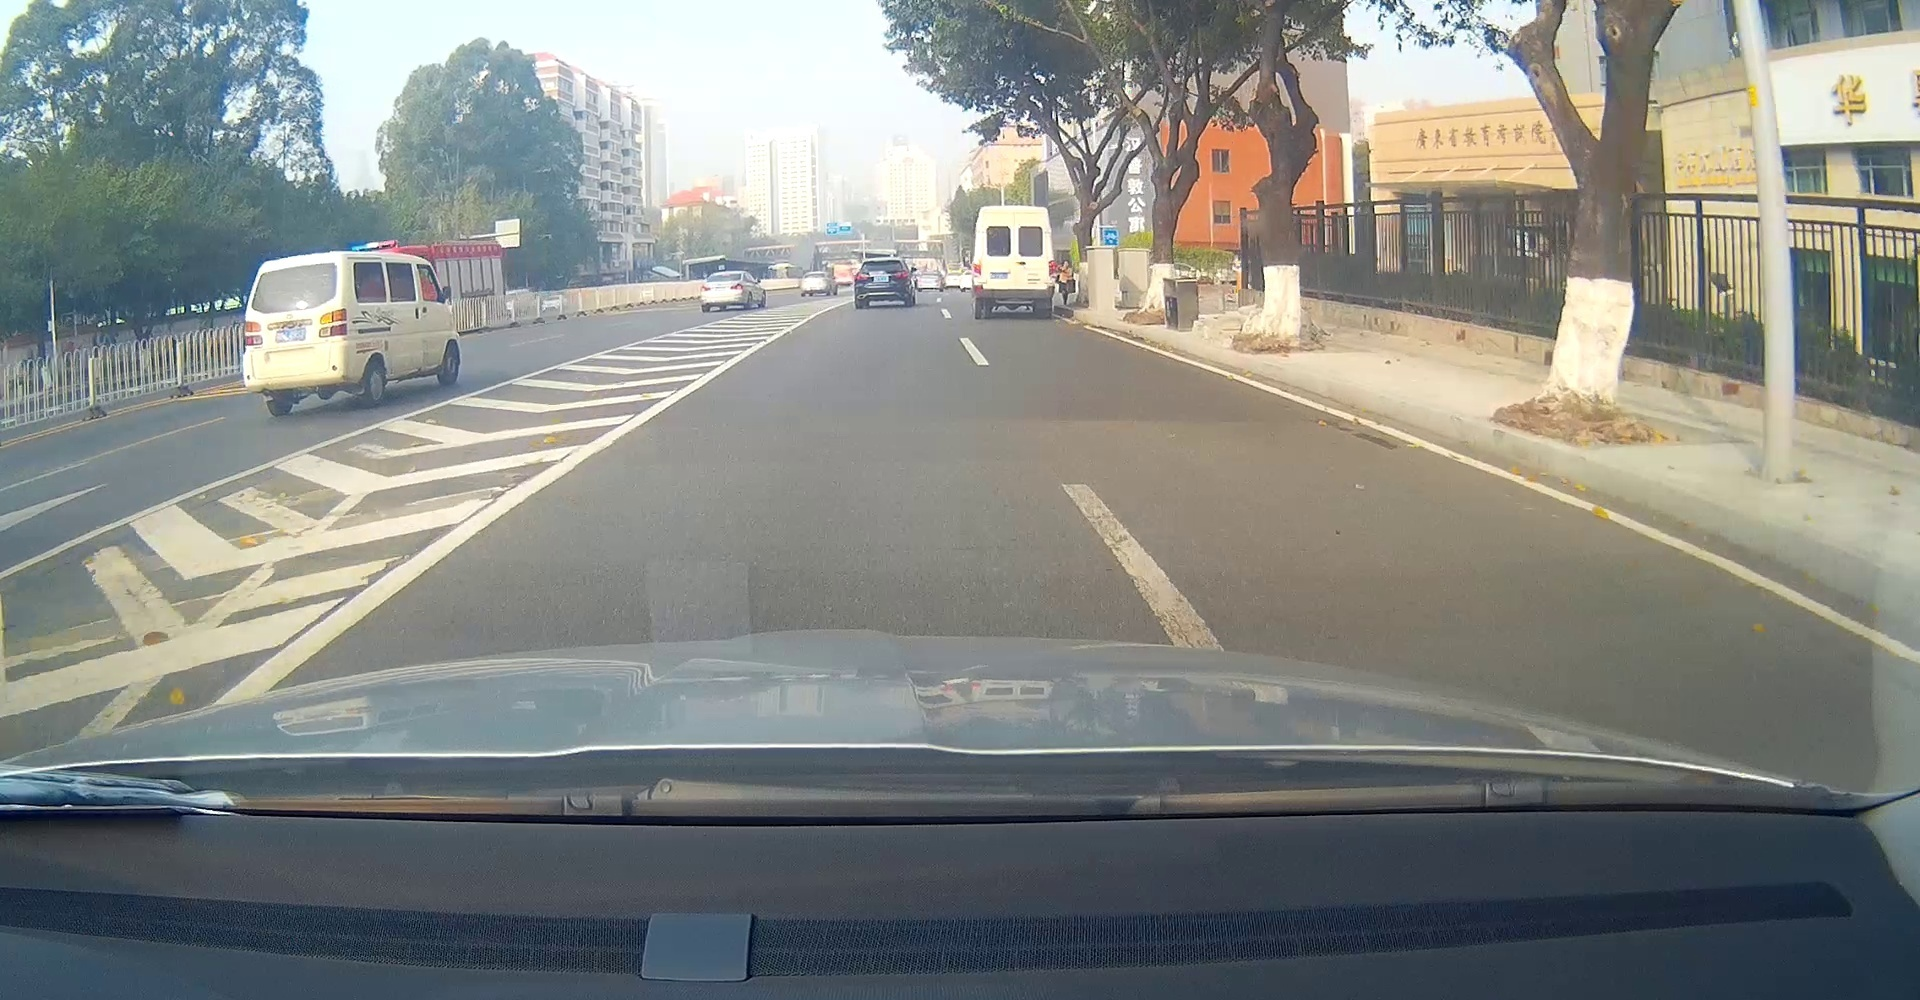L_light: (243, 321, 263, 346), (973, 258, 982, 277), (856, 272, 869, 280), (700, 286, 711, 291)
R_light: (319, 308, 348, 338), (1049, 260, 1055, 277), (731, 283, 744, 289), (895, 272, 908, 278)
T_light: (284, 268, 302, 272), (1010, 208, 1022, 211), (877, 261, 888, 264), (723, 273, 730, 275)
day-brake: (698, 270, 745, 312)
day-no: (241, 251, 353, 415), (971, 204, 1057, 319), (855, 258, 913, 308)
